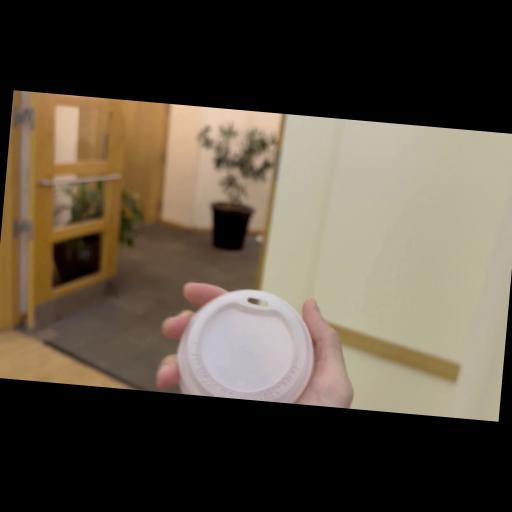lp_cup_lids: (175, 284, 319, 405)
